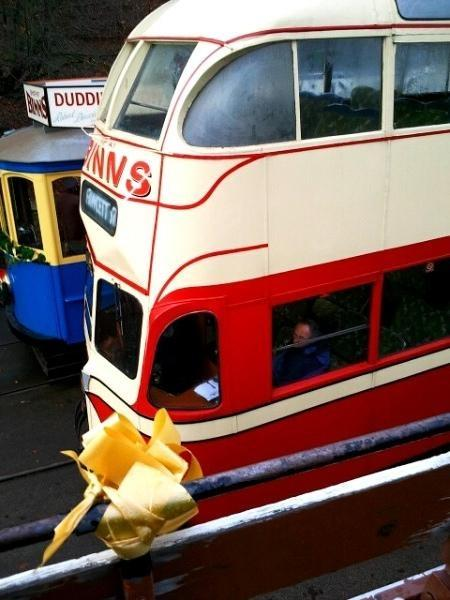bus: (85, 2, 450, 468), (3, 126, 92, 346)
